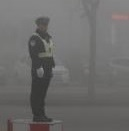person: (27, 16, 55, 123)
